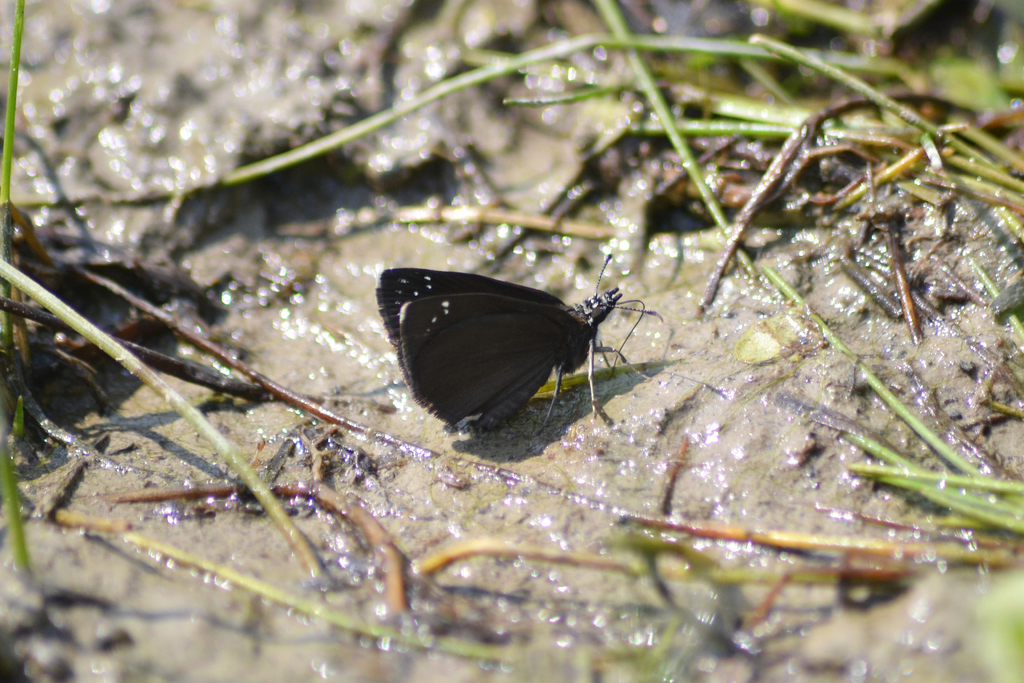Butterfly: (368, 243, 649, 437)
